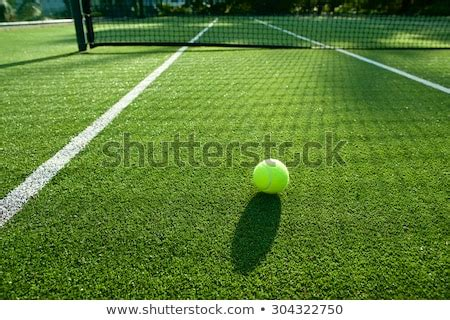tennis_ball: (253, 158, 289, 195)
